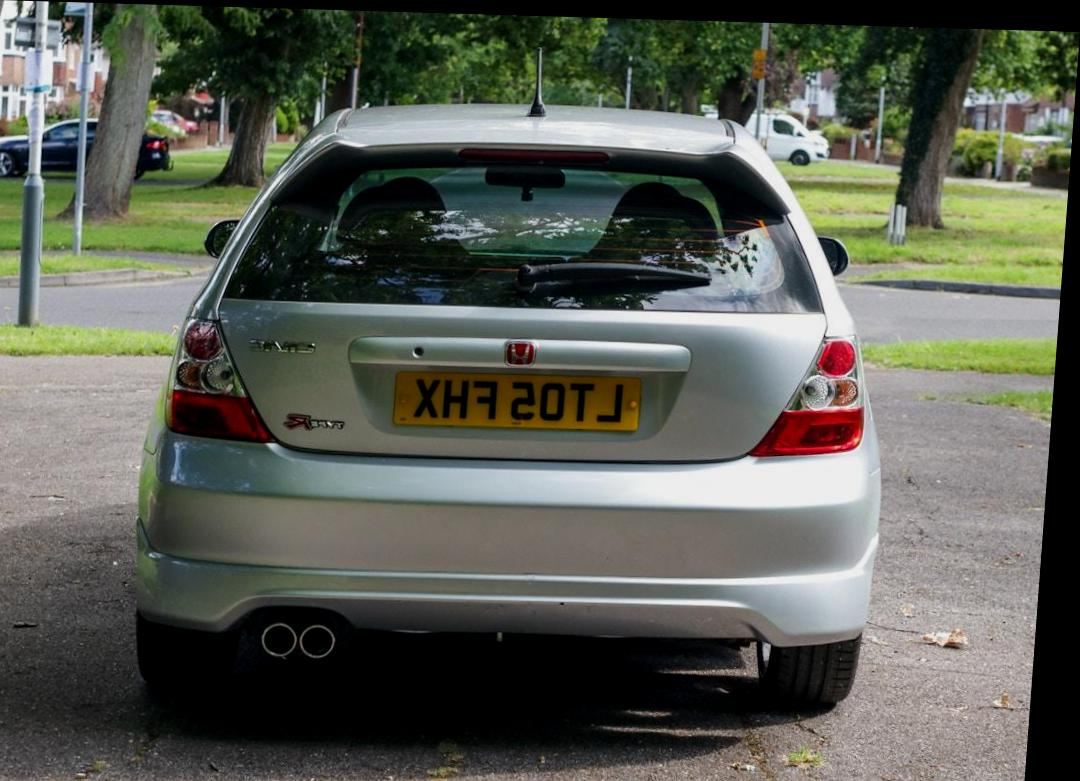License_Plate: (378, 363, 649, 448)
